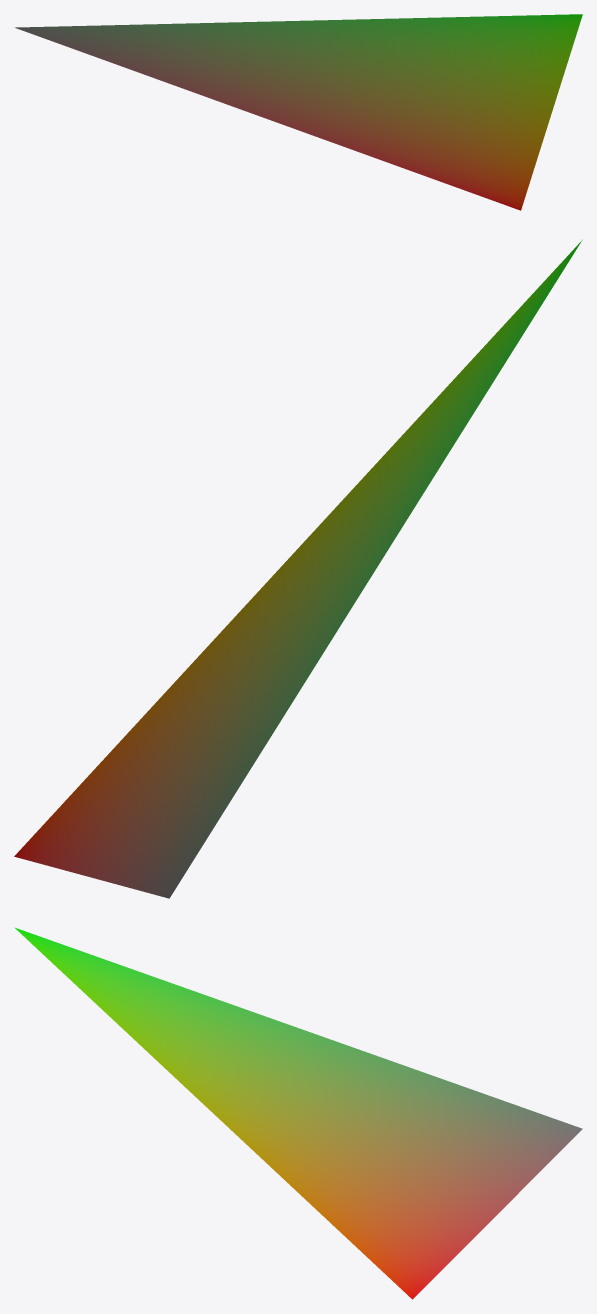
The model's file is start_border_patch_6.obj.
The picture shows the model from 3 angles, top to bottom: view 1: azimuth 30°, elevation 25°; view 2: azimuth 150°, elevation 25°; view 3: azimuth 270°, elevation 25°; orthographic projection. The views are drawn at different scales.
Size of the model in its own units: 0.4595 by 0.691 by 1.22.
